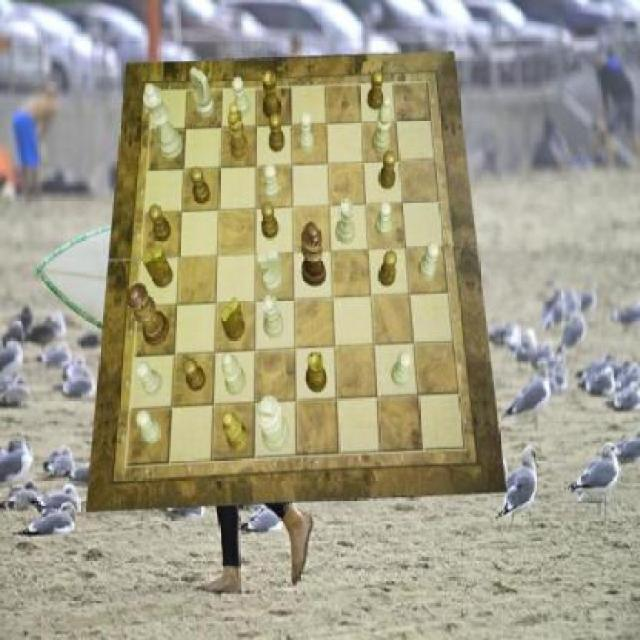bishop: (229, 103, 249, 161), (223, 412, 248, 452)
black-bishop: (302, 221, 328, 287)
black-king: (141, 245, 174, 287), (220, 297, 245, 341)
black-knight: (150, 204, 172, 240), (183, 358, 206, 392), (191, 166, 211, 204), (378, 250, 398, 286), (379, 151, 396, 189), (270, 114, 286, 154), (368, 71, 384, 111), (263, 202, 280, 239)
black-pawn: (128, 284, 170, 348)
black-queen: (263, 71, 283, 120), (306, 352, 327, 392)
black-rook: (372, 95, 392, 153), (222, 352, 246, 395)
white-bishop: (256, 396, 288, 452)
white-king: (191, 68, 215, 119), (257, 249, 281, 293)
white-knight: (136, 362, 162, 396), (137, 410, 161, 444), (418, 242, 439, 280), (232, 77, 250, 117), (391, 351, 412, 385), (298, 112, 314, 152), (263, 164, 280, 200), (376, 202, 392, 238)
white-pawn: (143, 85, 183, 159)
white-queen: (263, 296, 284, 340), (336, 198, 356, 244)
